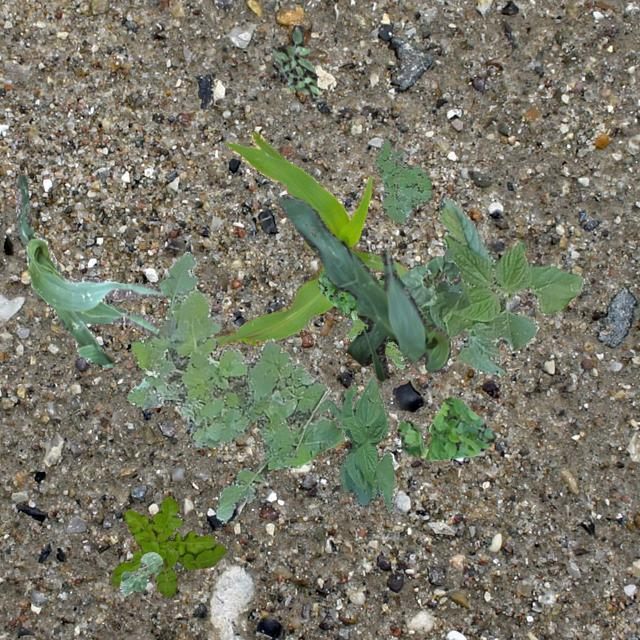crop: (213, 130, 407, 347), (276, 193, 449, 380), (414, 196, 584, 374), (14, 174, 164, 366), (326, 377, 396, 512), (398, 260, 459, 306), (118, 550, 162, 594)
weed: (126, 250, 344, 522), (108, 496, 225, 598), (396, 396, 492, 461), (374, 138, 434, 224), (270, 24, 320, 96), (344, 310, 404, 368), (317, 270, 383, 318)
